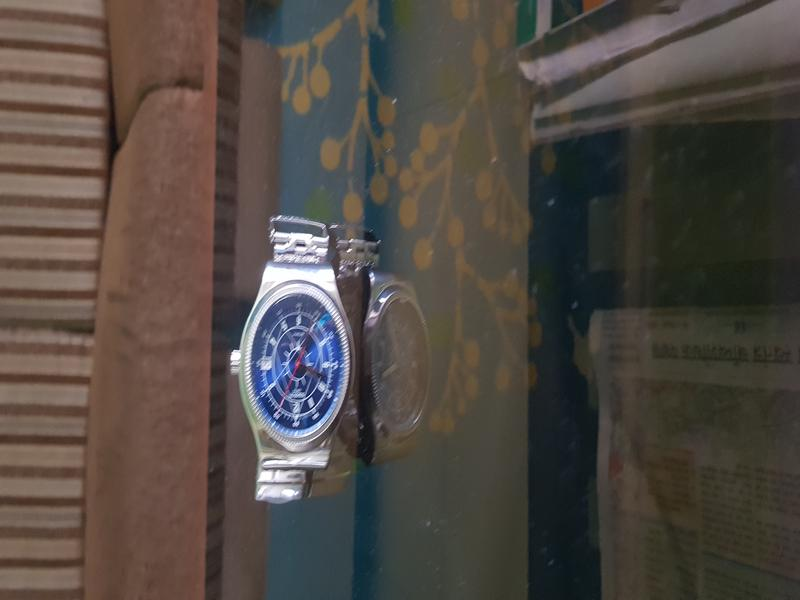watch: (207, 203, 387, 536)
